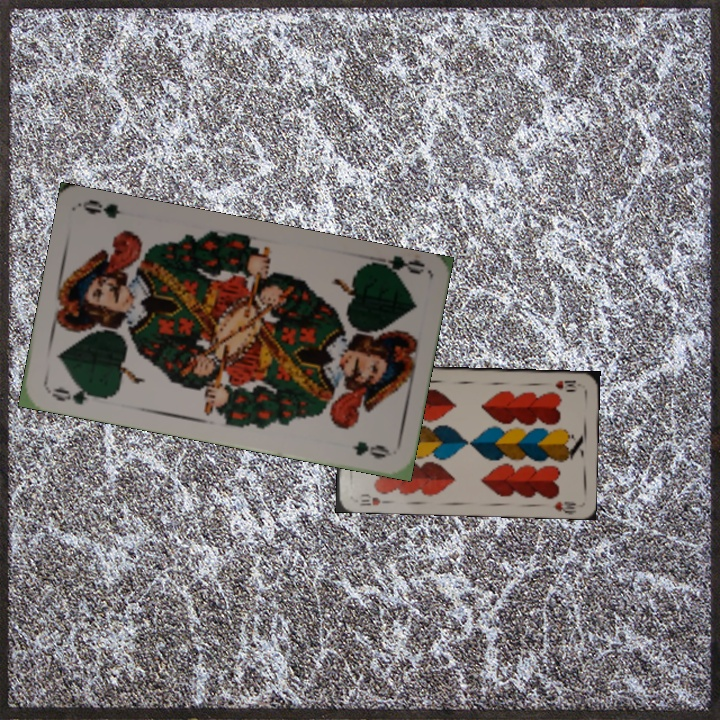GO: (365, 252, 426, 282), (47, 381, 105, 408)
H10: (356, 490, 391, 508), (551, 376, 581, 394)
